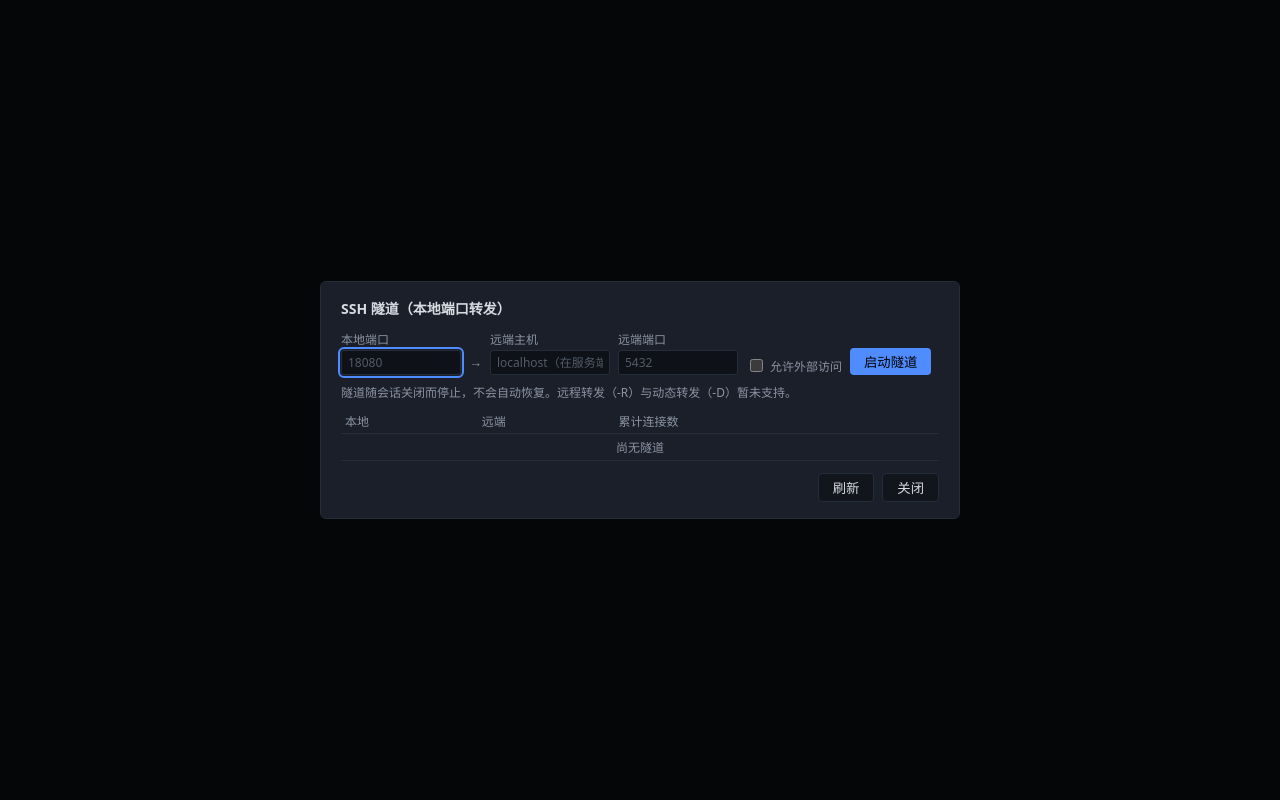
TunnelDialog（隧道管理器） › 勾选「允许外部访问」必须显式警告后果（同网段任何人可用这条隧道）
Click the checkbox with test id "tn-bindall" at (756, 366), box [750,359,763,372]
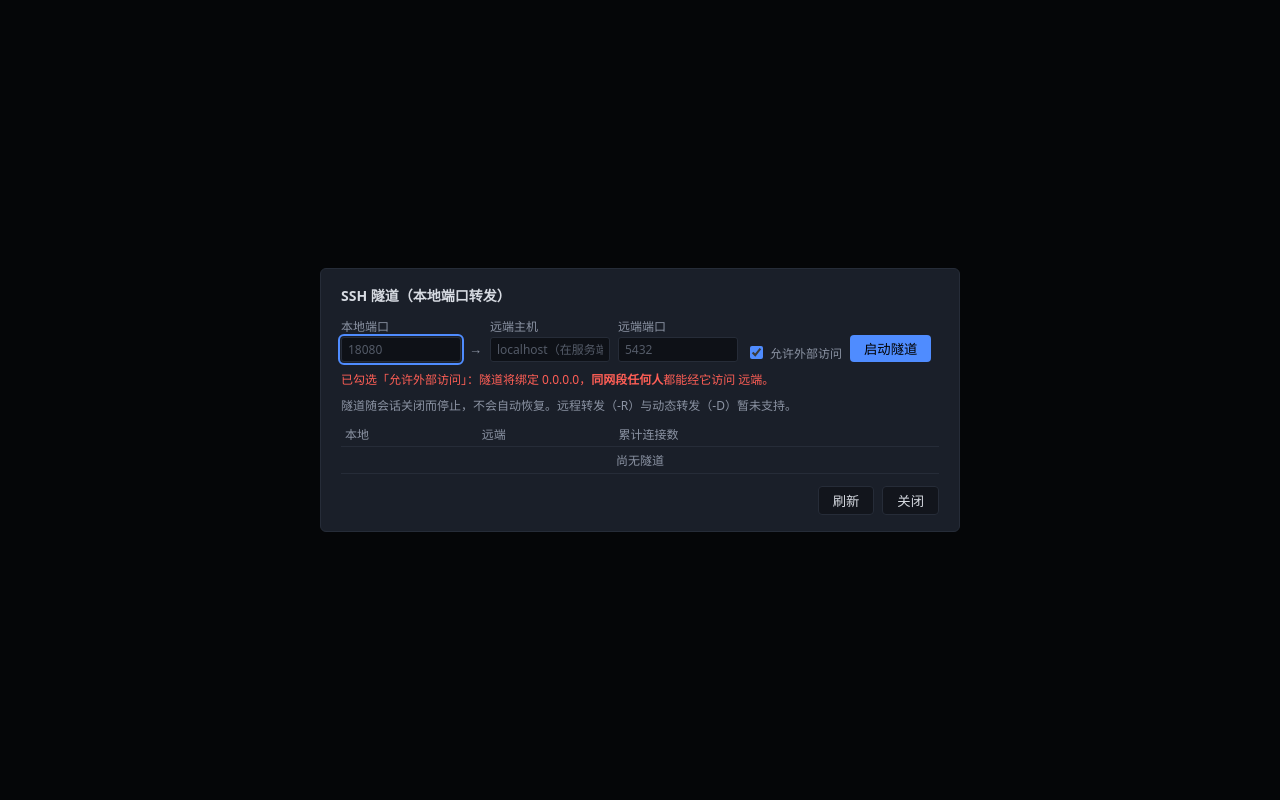
Expected: the element with test id "tn-bindall-warn" shows "同网段", [341,371,774,388]
